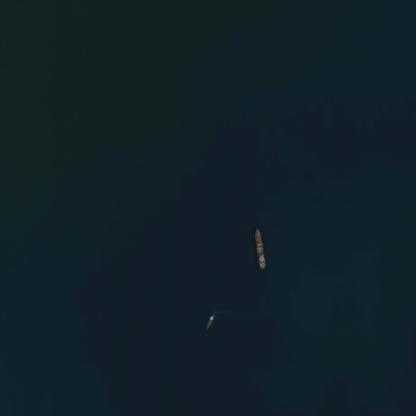ship: (246, 221, 275, 278), (198, 305, 220, 334)
